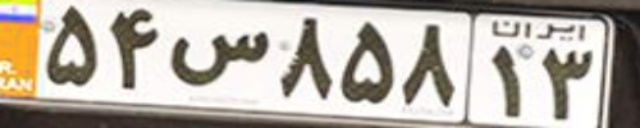1: (490, 43, 527, 115)
3: (542, 46, 593, 119)
4: (108, 7, 159, 91)
5: (341, 20, 395, 103), (46, 7, 94, 85)
8: (401, 24, 457, 105), (282, 16, 330, 97)
sin: (172, 31, 269, 87)
